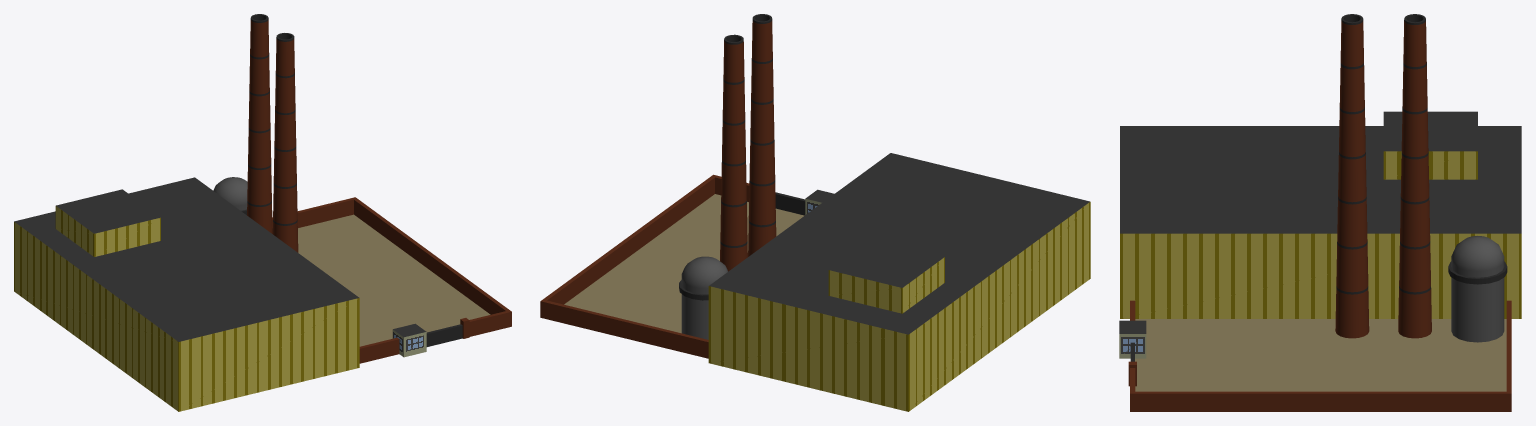
Rendered from GoldRefinery.fbx.
The picture shows the model from 3 angles, left to right: view 1: azimuth 30°, elevation 25°; view 2: azimuth 150°, elevation 25°; view 3: azimuth 270°, elevation 25°; orthographic projection. The views are drawn at different scales.
Parts seen in each view (by area): view 1: GoldRefinery; view 2: GoldRefinery; view 3: GoldRefinery.
Boxes of the visible parts, x1,y1,x2,y2 form: GoldRefinery: (14,14,511,411); GoldRefinery: (540,14,1090,411); GoldRefinery: (1119,14,1521,411).
Bounding box in the file's own units: 1514 × 1100 × 1283.
